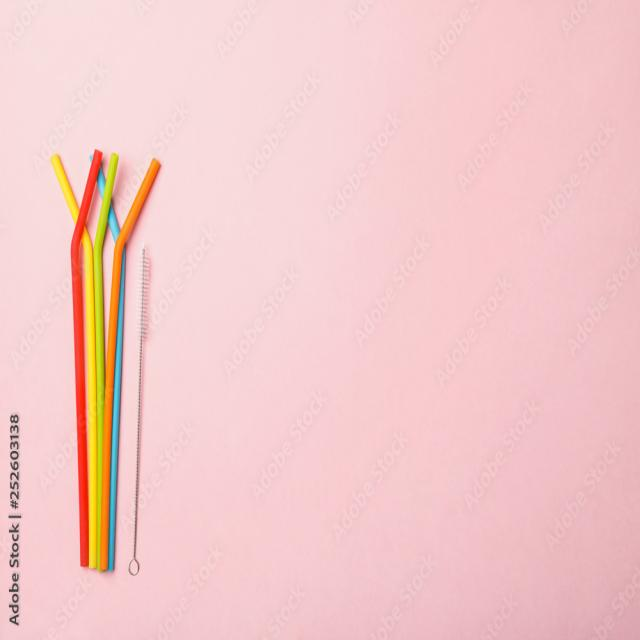plastic: (46, 141, 132, 577)
